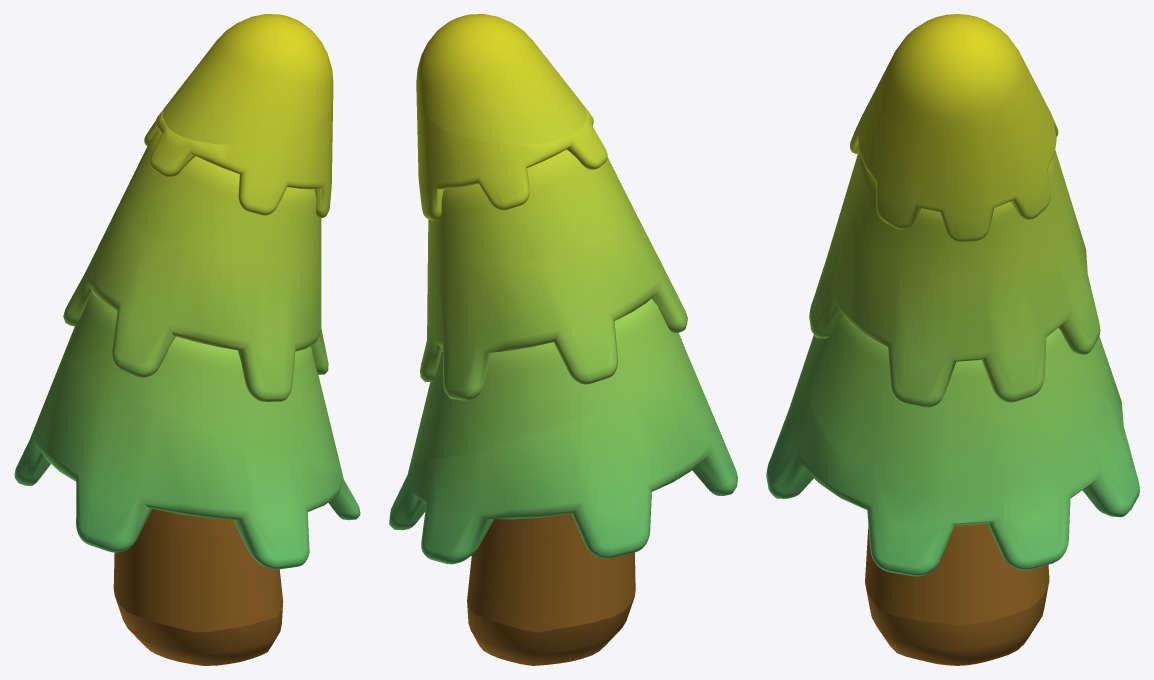
File: tree2 100%.fbx
3 views of the same model, side by side, from view 1: azimuth 30°, elevation 25°; view 2: azimuth 150°, elevation 25°; view 3: azimuth 270°, elevation 25° (orthographic). The views are drawn at different scales.
Visible parts, largest first — view 1: Cylinder.023; view 2: Cylinder.023; view 3: Cylinder.023.
Part boxes in pixels (x1,y1,x2,y2): Cylinder.023: (14, 14, 360, 665); Cylinder.023: (389, 14, 737, 665); Cylinder.023: (766, 14, 1139, 665).
Bounding box in the file's own units: 79.53 × 162 × 83.63.
